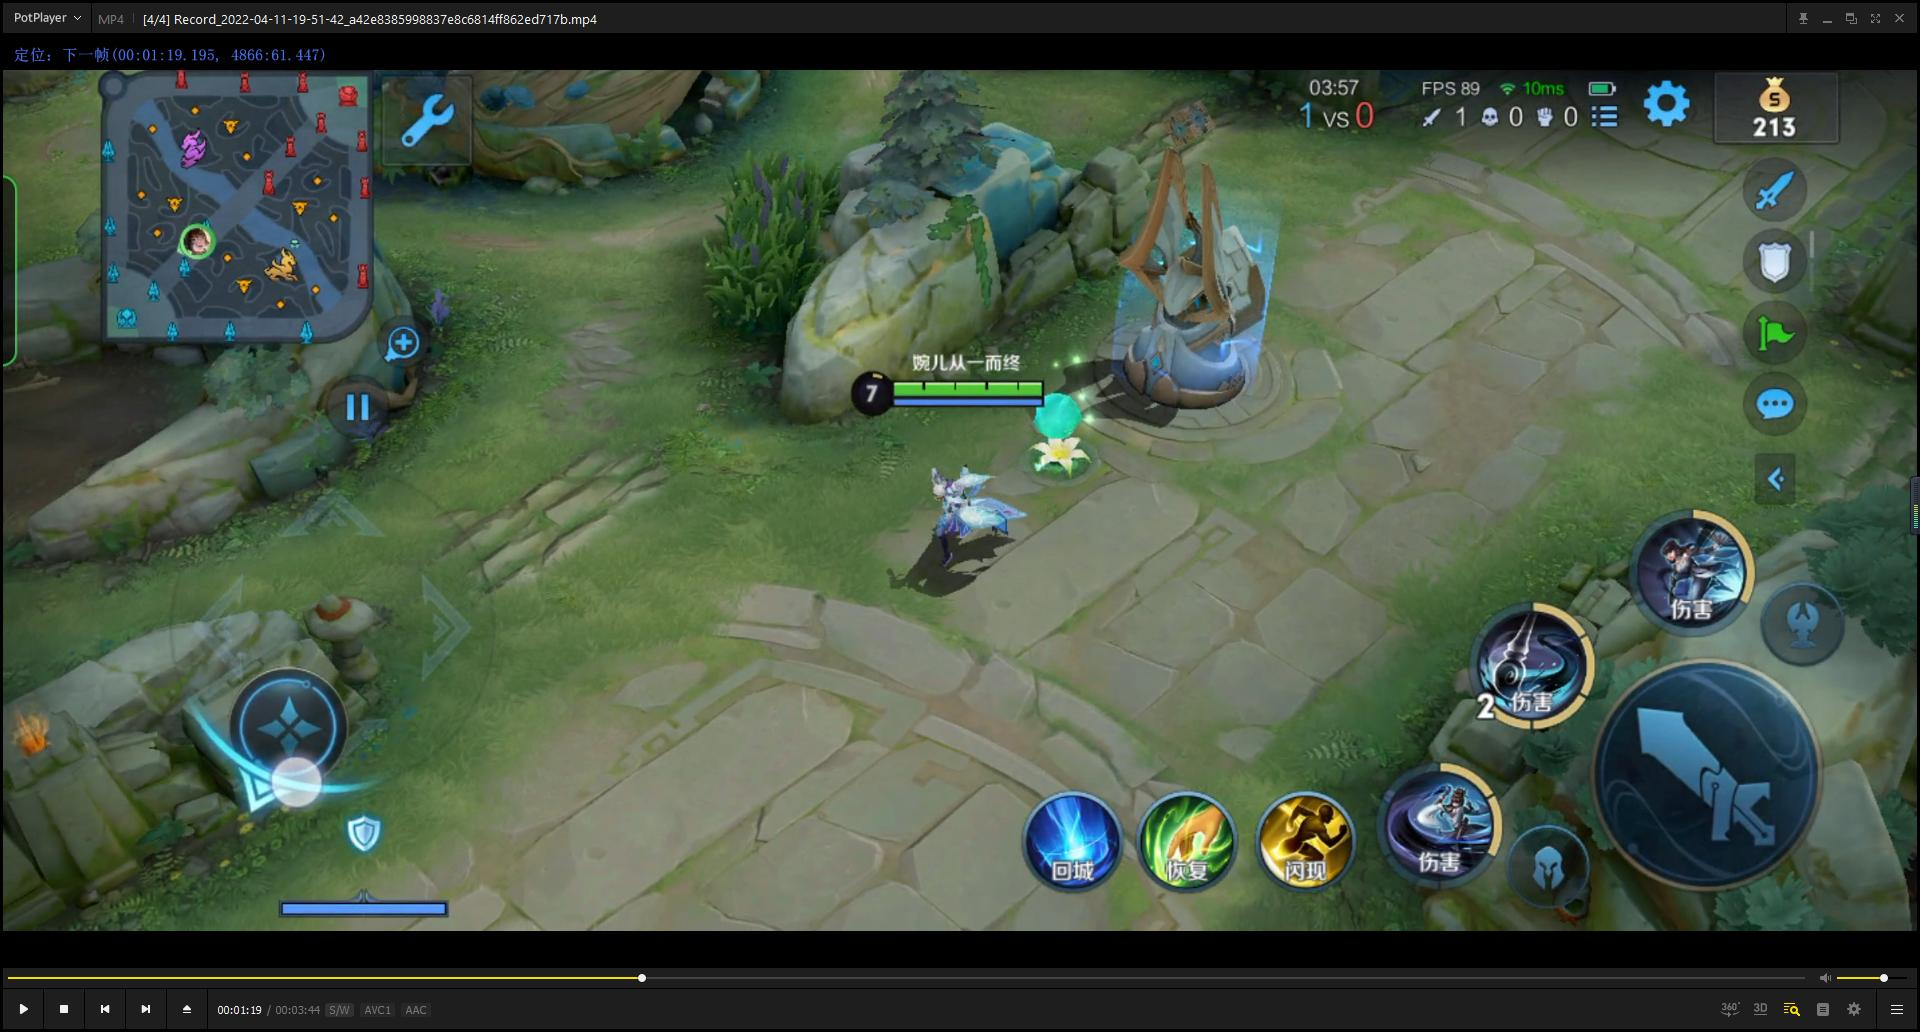Hero: (886, 454, 1027, 585)
Tower: (1083, 103, 1299, 430)
